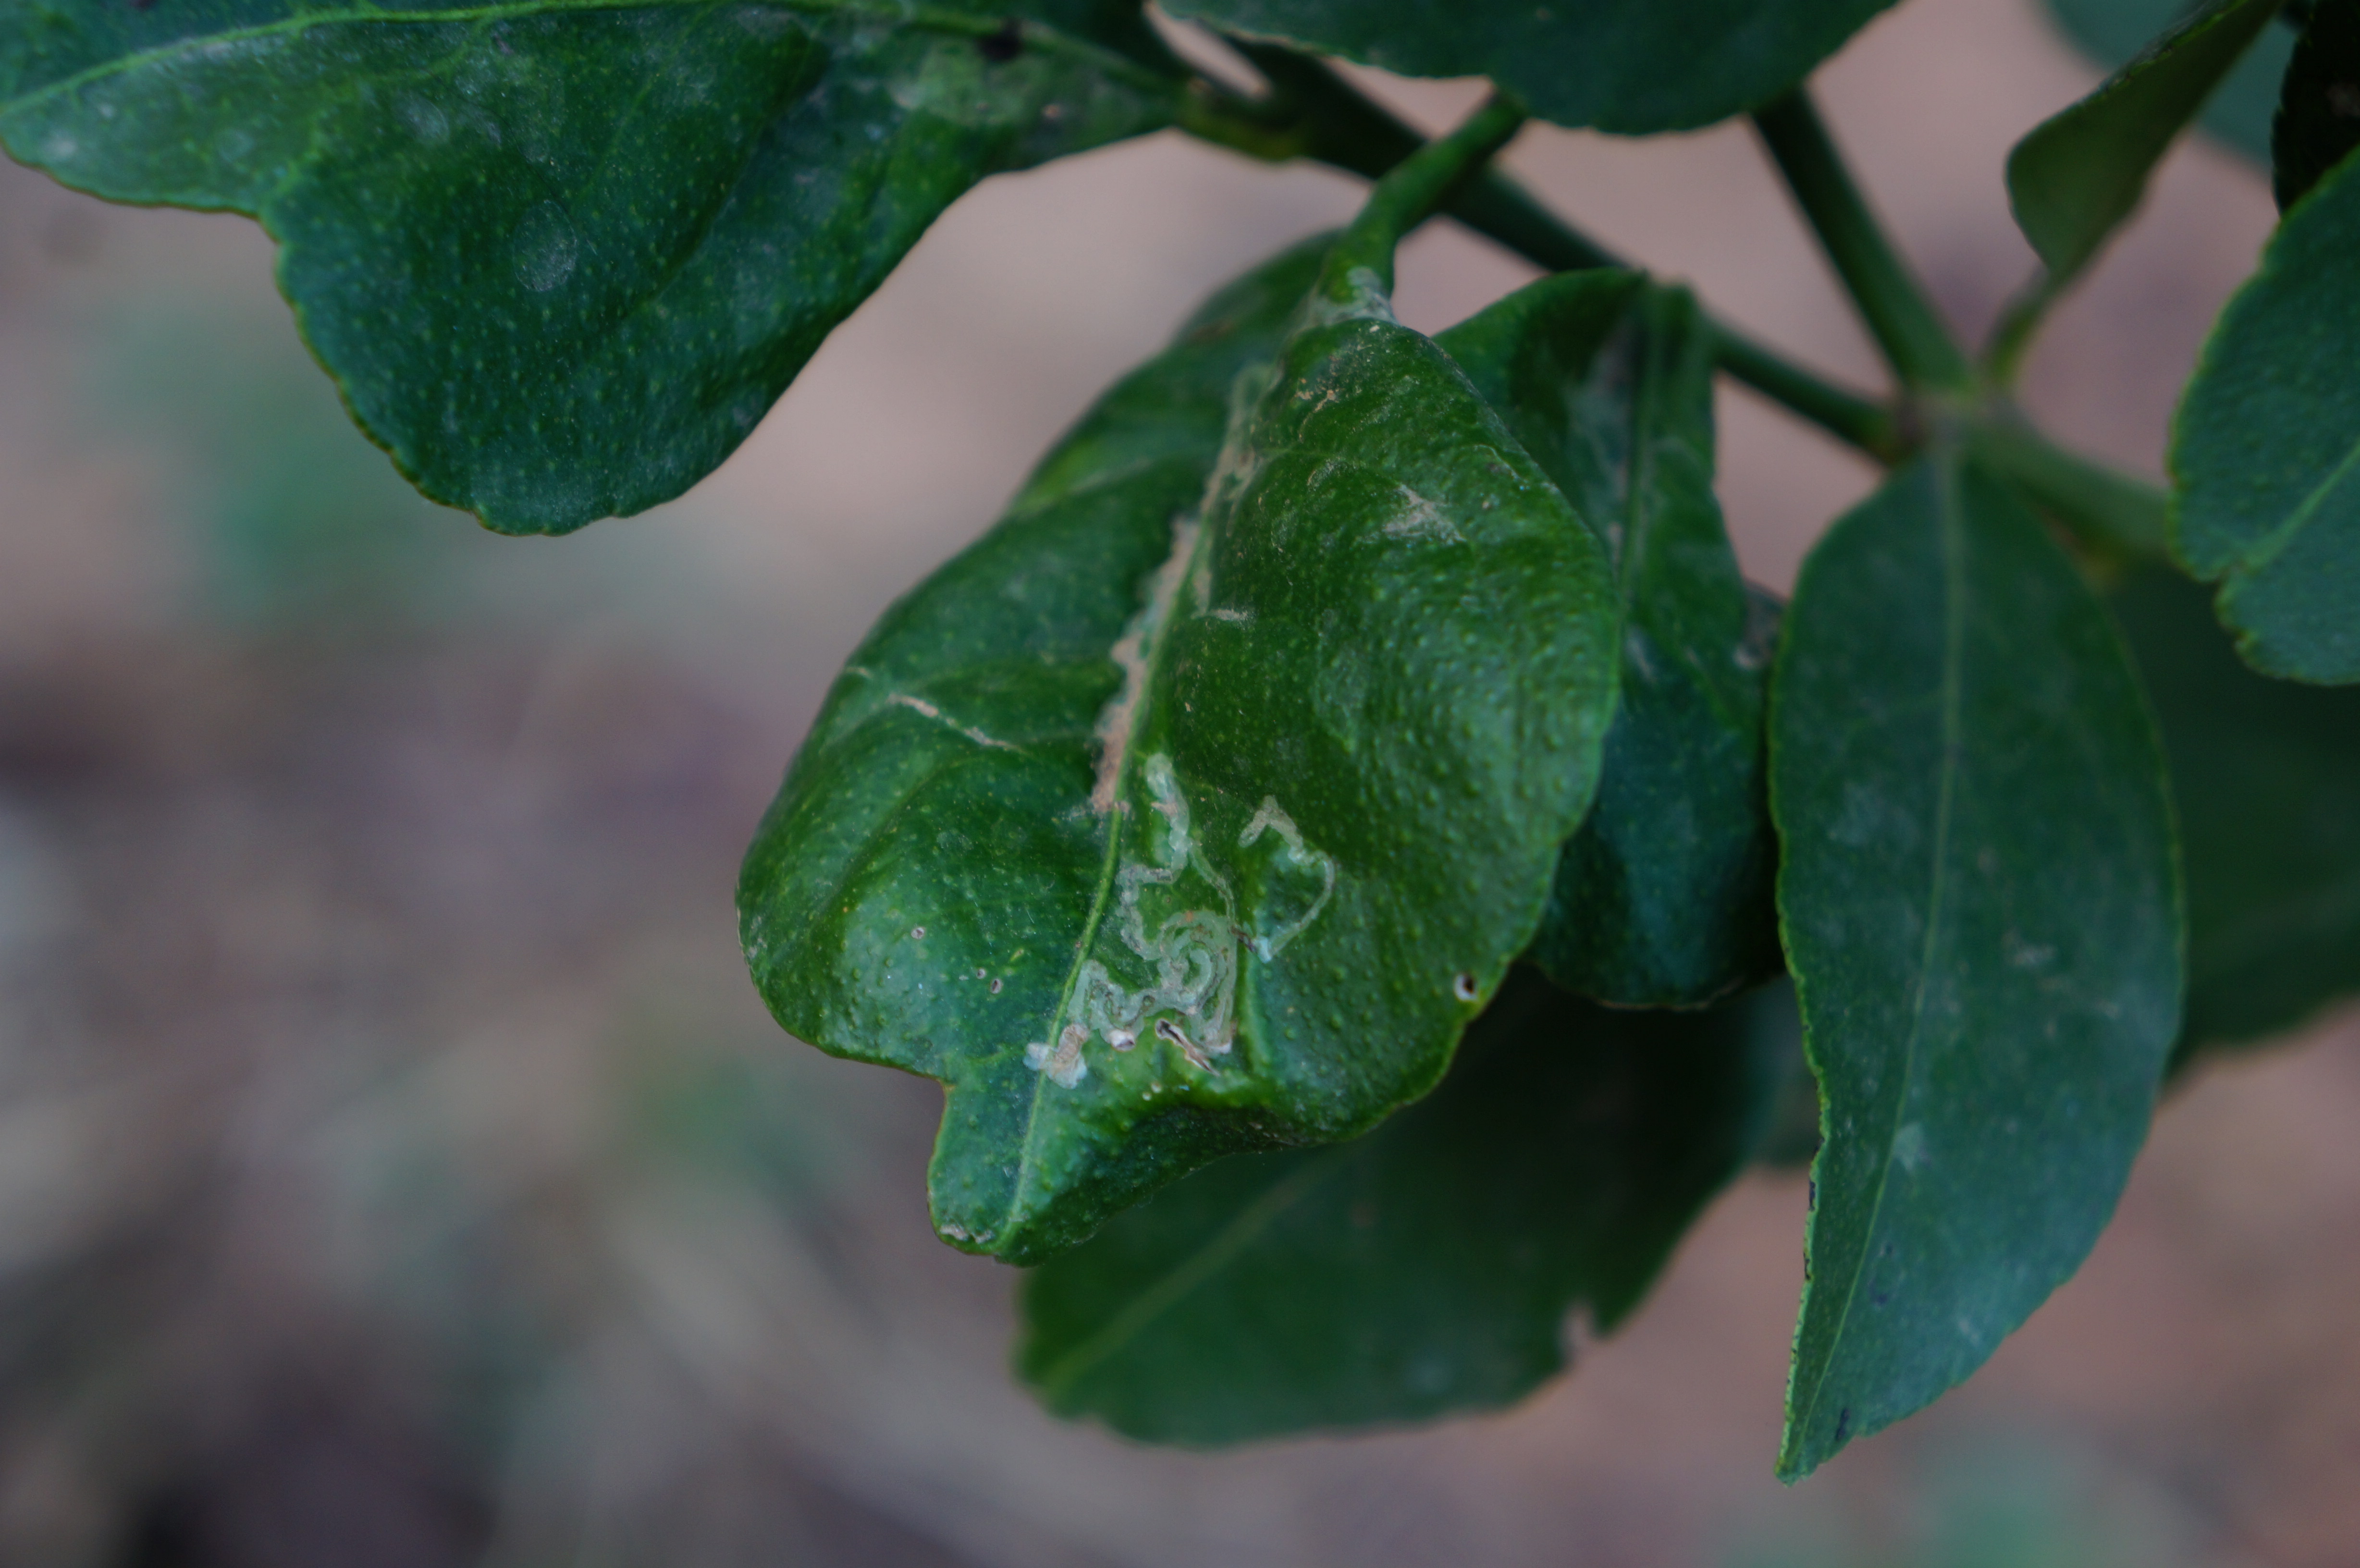damage: (997, 756, 1354, 1102)
